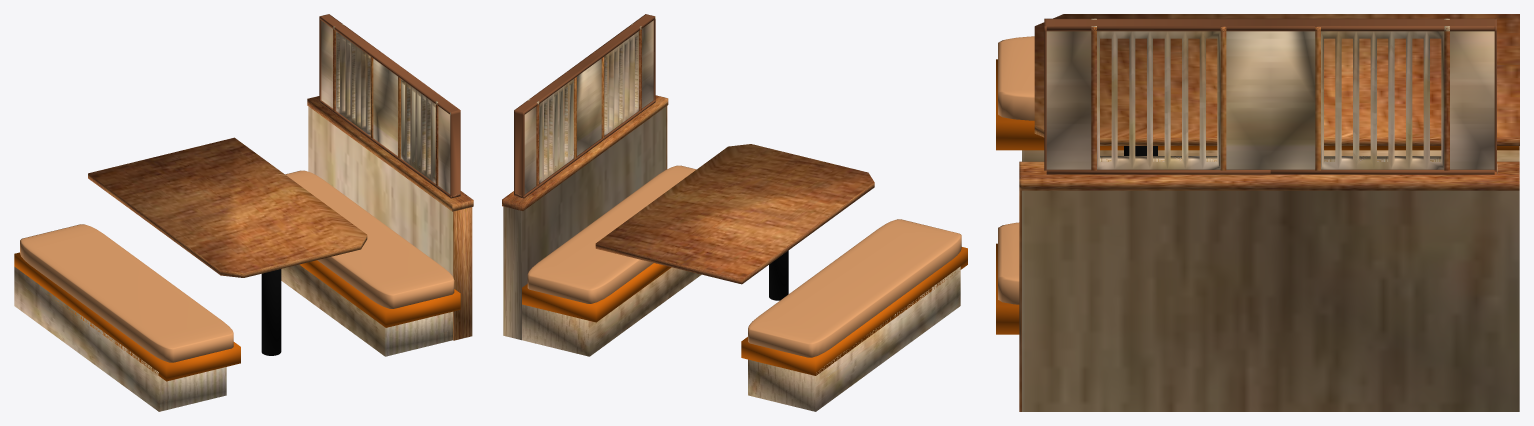
File: sushi_store.fbx
The picture shows the model from 3 angles, left to right: view 1: azimuth 30°, elevation 25°; view 2: azimuth 150°, elevation 25°; view 3: azimuth 270°, elevation 25°; orthographic projection. The views are drawn at different scales.
Visible parts, largest first — view 1: 立方体; view 2: 立方体; view 3: 立方体.
Boxes of the visible parts, x1,y1,x2,y2 form: 立方体: (14,14,473,411); 立方体: (502,14,967,411); 立方体: (996,14,1519,411).
Size of the model in its own units: 12850 by 8713 by 10791.
